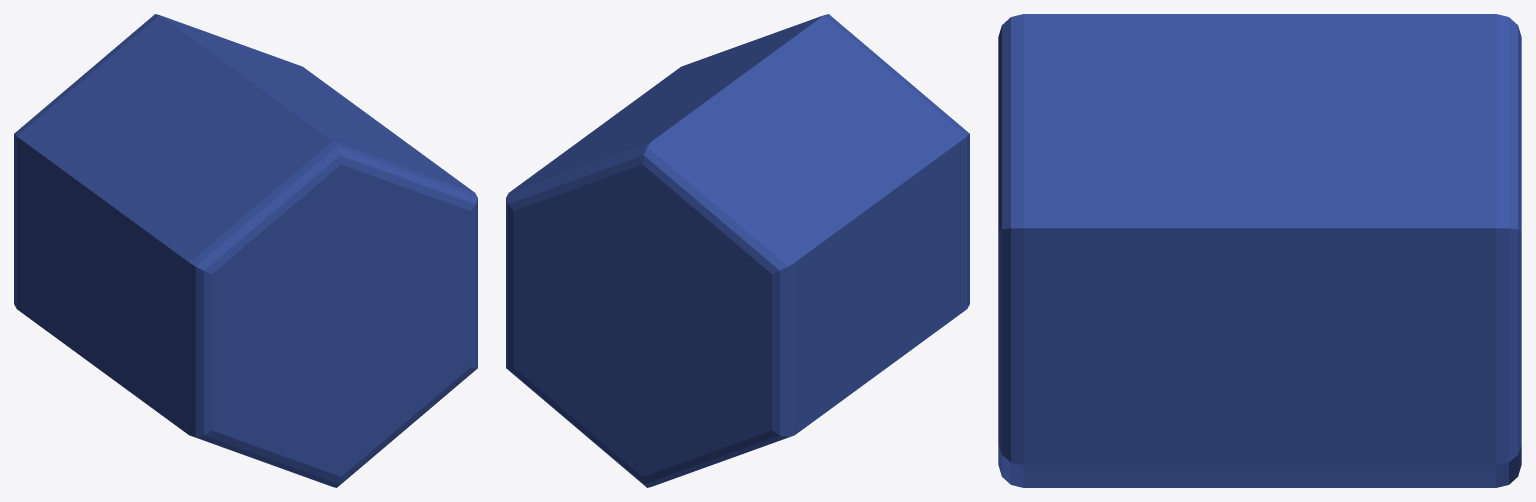
The model's file is tinker.obj.
The picture shows the model from 3 angles, left to right: view 1: azimuth 30°, elevation 25°; view 2: azimuth 150°, elevation 25°; view 3: azimuth 270°, elevation 25°; orthographic projection. The views are drawn at different scales.
Visible parts, largest first — view 1: obj_0; view 2: obj_0; view 3: obj_0.
Part boxes in pixels (x1,y1,x2,y2): obj_0: [14, 14, 477, 487]; obj_0: [506, 14, 969, 487]; obj_0: [998, 14, 1521, 487].
Bounding box in the file's own units: 17.32 × 20 × 20.
